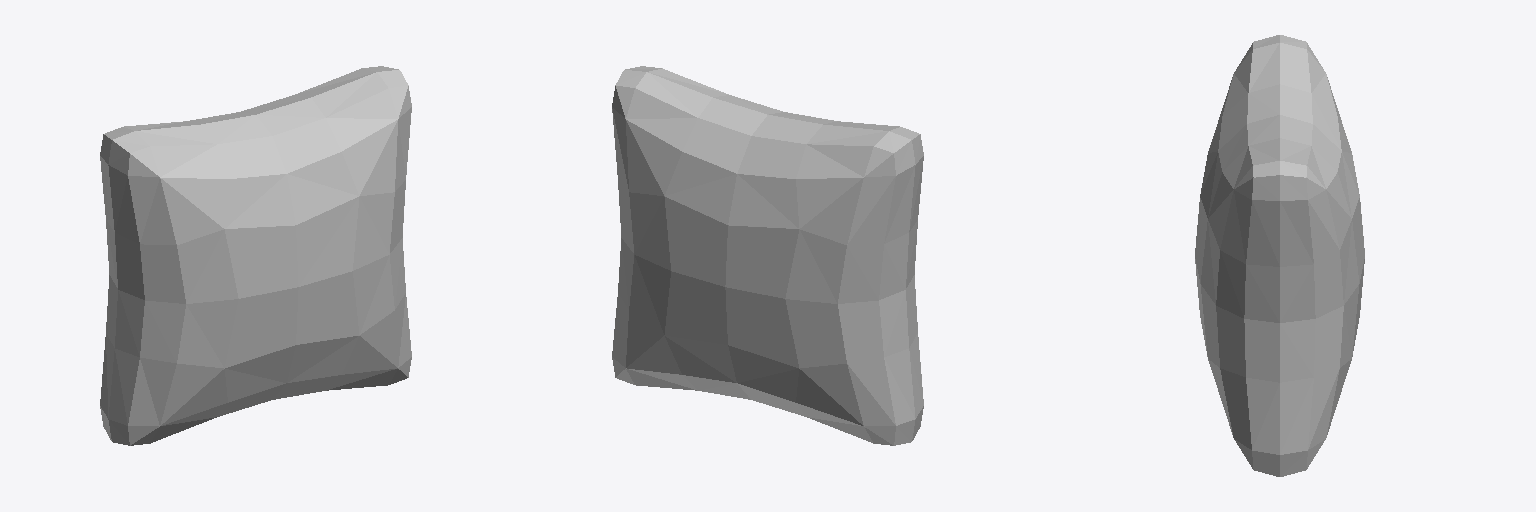
File: pillow_large_green.obj
The picture shows the model from 3 angles: view 1: azimuth 30°, elevation 25°; view 2: azimuth 150°, elevation 25°; view 3: azimuth 270°, elevation 25°; orthographic projection.
Visible parts, largest first — view 1: pillow_large_green; view 2: pillow_large_green; view 3: pillow_large_green.
Part boxes in pixels (bbox=[...]): pillow_large_green: bbox=[100, 66, 411, 445]; pillow_large_green: bbox=[612, 66, 923, 445]; pillow_large_green: bbox=[1195, 35, 1364, 476].
Bounding box in the file's own units: 1 × 1 × 0.5.